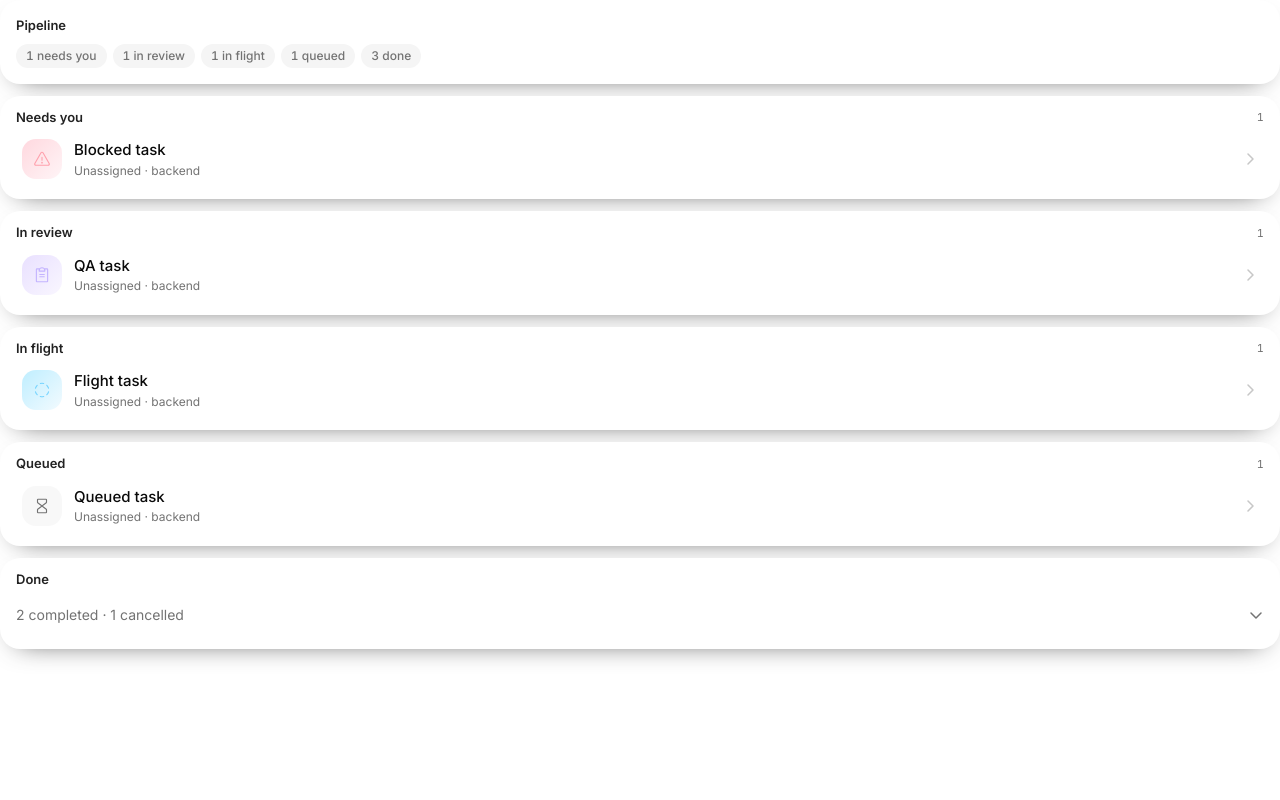
Scenario: TgBoardTab › groups tasks by lifecycle stage and collapses done by default
Expected: the heading "Needs you" is shown, [16,108,83,127]
Expected: the text "Blocked task" is shown, [74,140,166,159]
Expanding reveals the recent terminal tasks.
Click the button "2 completed · 1 cancelled".
click(67, 614)  # box [16,593,1264,637]
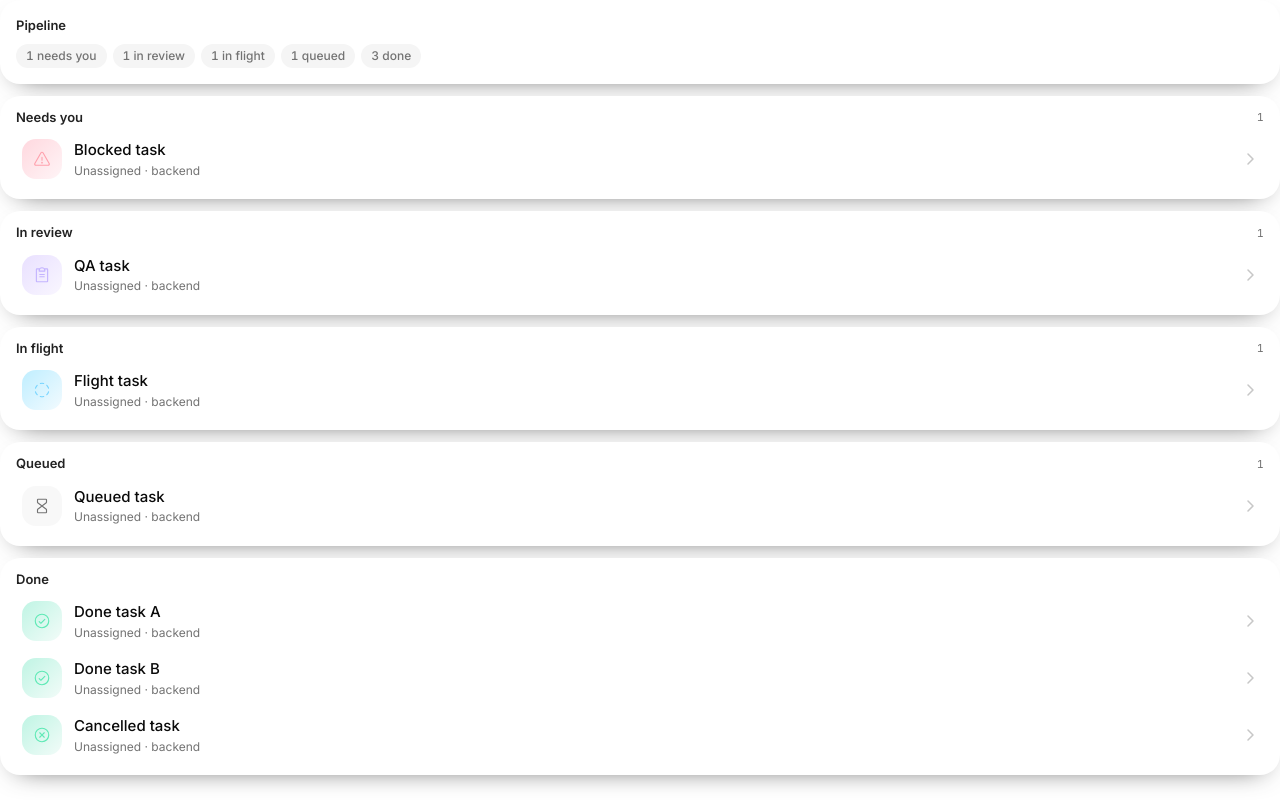
Expected: the text "Done task A" is shown, [74,602,160,621]
Expected: the text "Cancelled task" is shown, [74,716,180,735]
